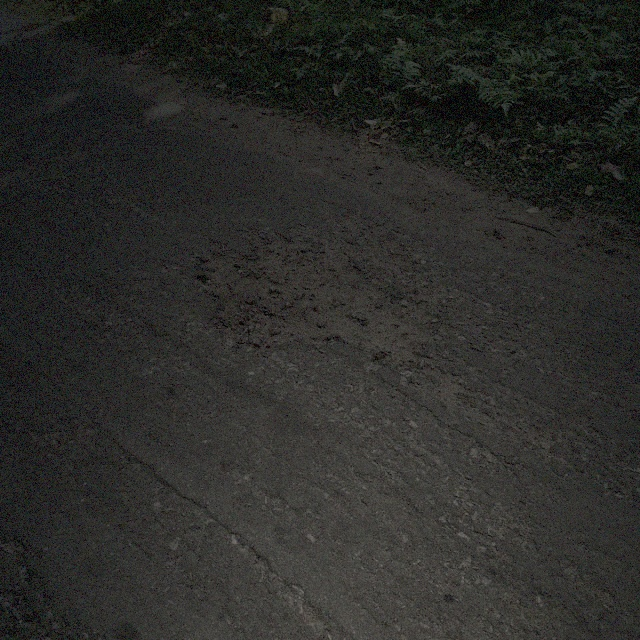pothole: (188, 222, 428, 363)
